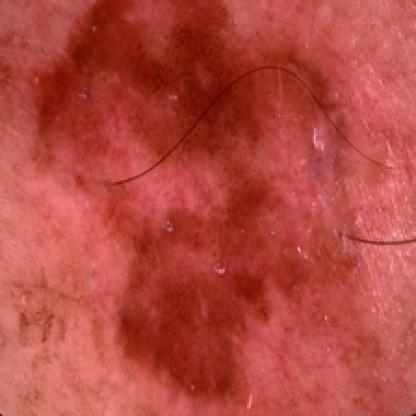malignant: (43, 4, 351, 386)
